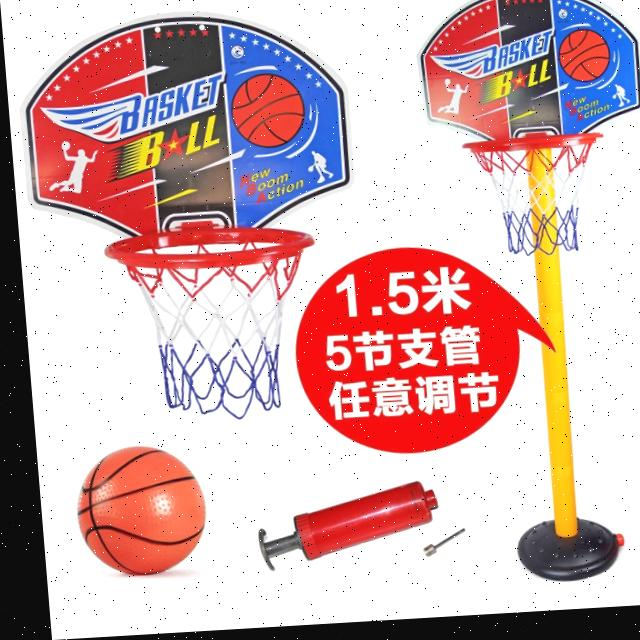basketball: (72, 442, 212, 579)
hoop: (104, 219, 328, 424), (458, 130, 613, 260)
